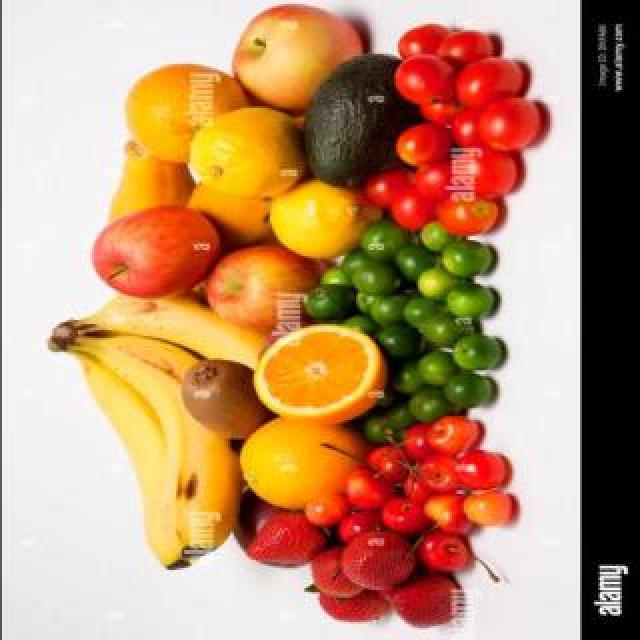Wet: (135, 82, 428, 410), (254, 431, 520, 621)
